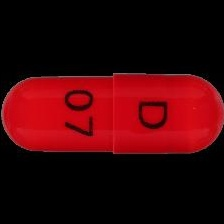33261-903: (0, 0, 224, 224)
